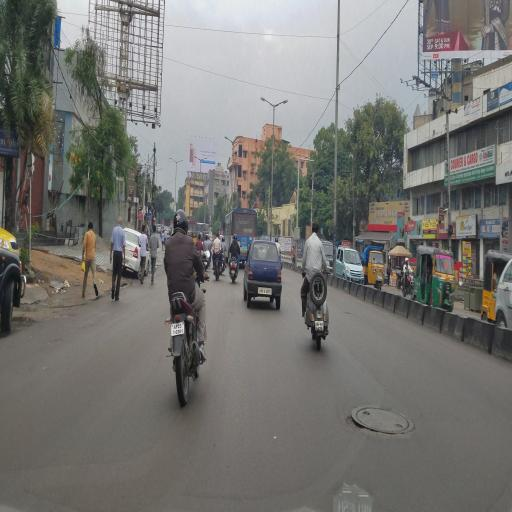street_light_0: (254, 86, 272, 116), (272, 88, 291, 109), (190, 148, 202, 173), (220, 130, 233, 150), (164, 150, 174, 172), (175, 150, 184, 166), (199, 153, 208, 167)
